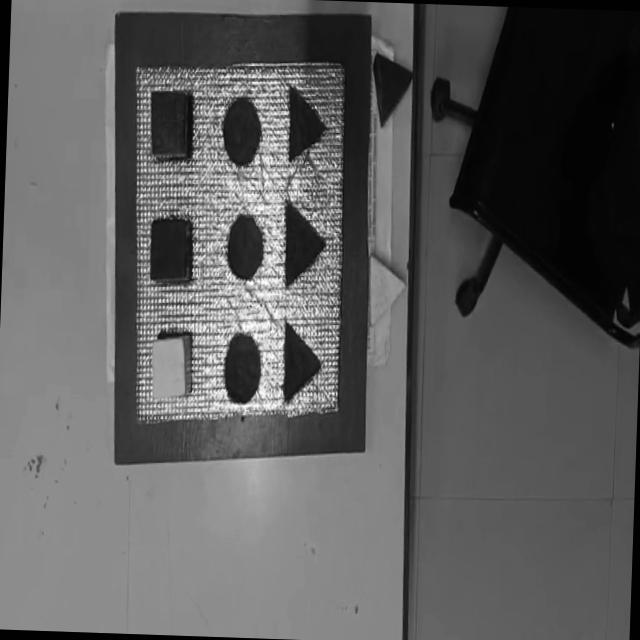bcube: (146, 88, 192, 162)
btriangle: (369, 52, 414, 130)
mtcircle: (220, 96, 262, 167), (222, 332, 262, 406), (225, 212, 264, 281)
mttriangle: (282, 201, 326, 289), (280, 323, 322, 405), (286, 84, 328, 164)
rcube: (148, 214, 194, 284)
wb: (124, 52, 350, 432)
ycube: (149, 329, 194, 400)
ytriangle: (366, 254, 407, 328)
